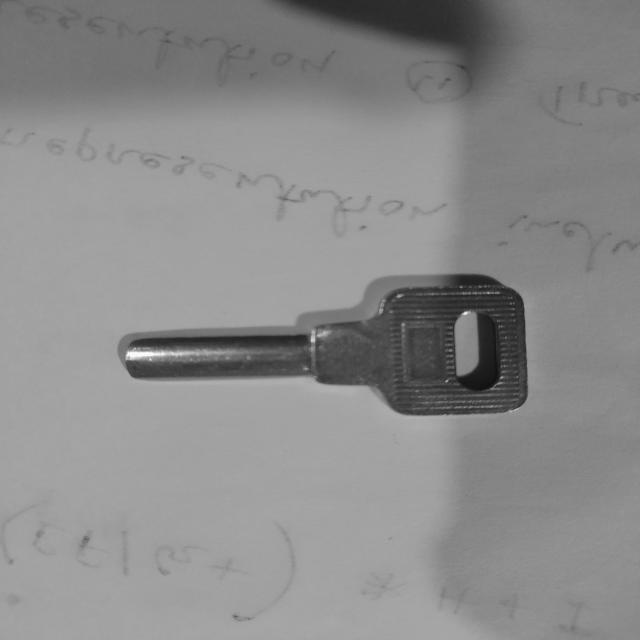key: (124, 281, 527, 416)
